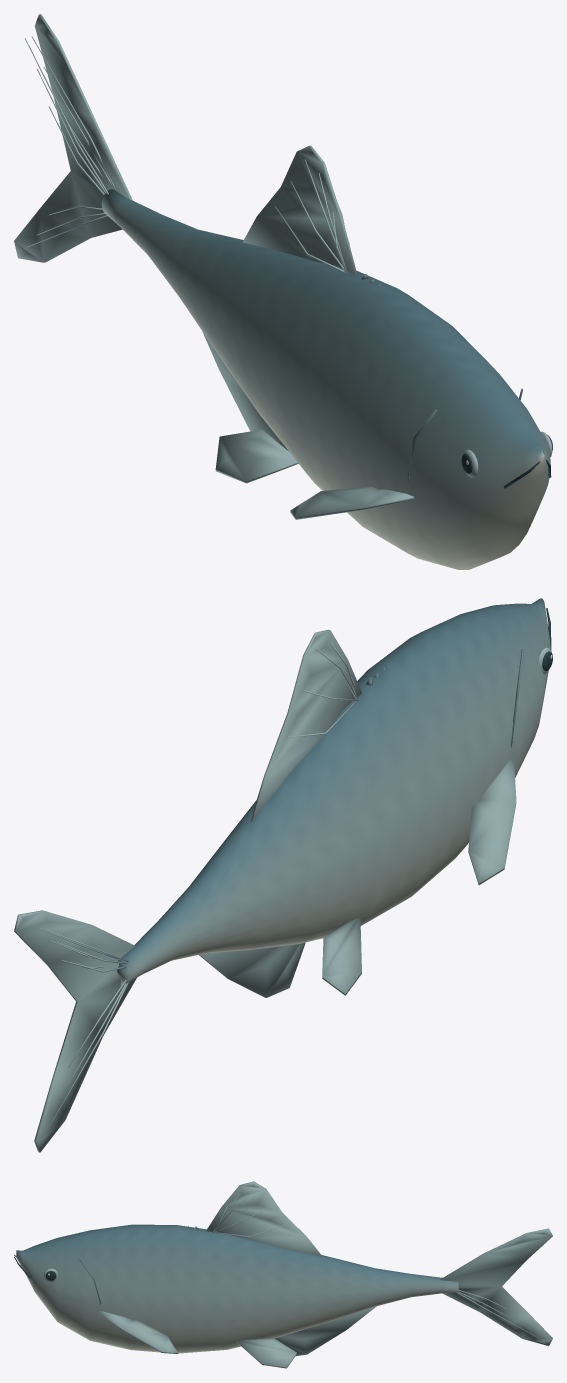
Rendered from diplomystus.glb.
3 renders of one model, top to bottom at view 1: azimuth 30°, elevation 25°; view 2: azimuth 150°, elevation 25°; view 3: azimuth 270°, elevation 25°, orthographic. The views are drawn at different scales.
Parts seen in each view (by area): view 1: continuous-head-and-tapered-body, curved-fins-with-fine-ray-structure, subtle-eyes-gill-cover-and-lifted-mouth; view 2: continuous-head-and-tapered-body, curved-fins-with-fine-ray-structure, subtle-eyes-gill-cover-and-lifted-mouth; view 3: continuous-head-and-tapered-body, curved-fins-with-fine-ray-structure, subtle-eyes-gill-cover-and-lifted-mouth.
Boxes of the visible parts, x1,y1,x2,y2 form: continuous-head-and-tapered-body: (101, 189, 550, 569); curved-fins-with-fine-ray-structure: (14, 14, 414, 519); subtle-eyes-gill-cover-and-lifted-mouth: (361, 274, 552, 488); continuous-head-and-tapered-body: (117, 598, 550, 984); curved-fins-with-fine-ray-structure: (14, 629, 516, 1152); subtle-eyes-gill-cover-and-lifted-mouth: (366, 608, 552, 747); continuous-head-and-tapered-body: (16, 1224, 458, 1353); curved-fins-with-fine-ray-structure: (96, 1181, 552, 1368); subtle-eyes-gill-cover-and-lifted-mouth: (14, 1226, 198, 1304).
Size of the model in its own units: 0.06 by 0.095 by 0.2632.
Materials: 6 (1 with a texture image).
